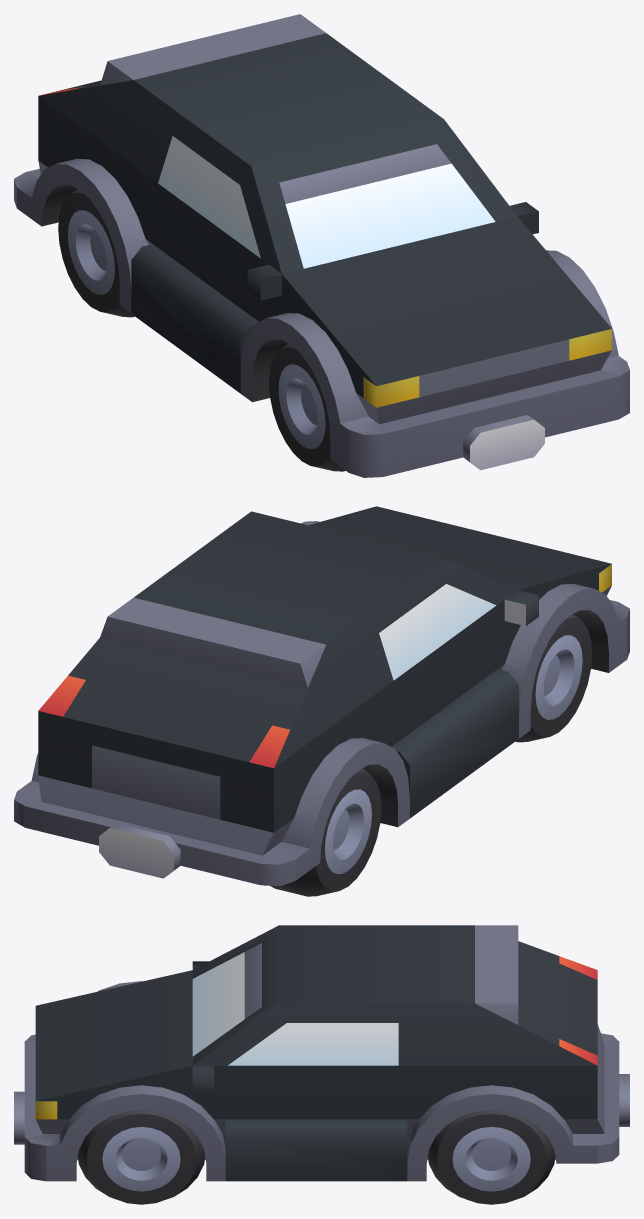
File: hatchback-sports-charcoal.glb
3 renders of one model, top to bottom at view 1: azimuth 30°, elevation 25°; view 2: azimuth 150°, elevation 25°; view 3: azimuth 270°, elevation 25°, orthographic. The views are drawn at different scales.
Parts seen in each view (by area): view 1: hatchback-sports; view 2: hatchback-sports; view 3: hatchback-sports.
Part boxes in pixels (bbox=[...]): hatchback-sports: bbox=[14, 14, 629, 477]; hatchback-sports: bbox=[14, 506, 629, 896]; hatchback-sports: bbox=[14, 925, 629, 1204].
Size of the model in its own units: 1.8 by 1.46 by 4.15.
Materials: 1 (1 with a texture image).
